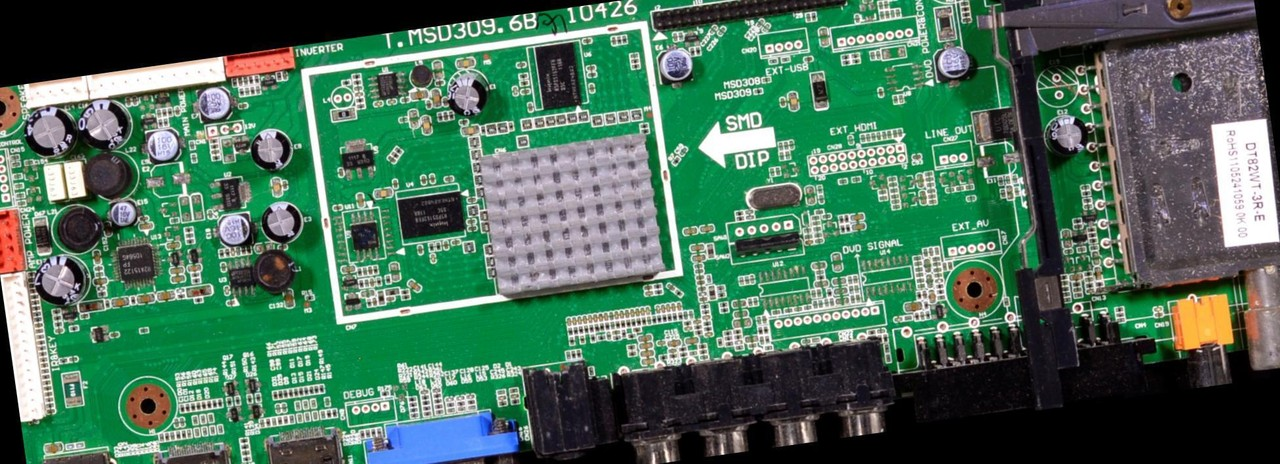Capacitor: (269, 176, 283, 198), (42, 442, 62, 455), (455, 57, 475, 69), (283, 290, 294, 311), (420, 115, 432, 134), (136, 293, 155, 305), (375, 187, 392, 199), (157, 289, 174, 301), (461, 125, 479, 136), (356, 193, 366, 210), (430, 89, 439, 107), (111, 298, 128, 307), (165, 241, 180, 251), (691, 252, 705, 262), (167, 267, 184, 275), (138, 222, 153, 231), (92, 248, 101, 263), (640, 357, 654, 366), (186, 264, 201, 272), (169, 275, 184, 283), (94, 277, 107, 286), (851, 213, 864, 222), (683, 339, 698, 346), (683, 227, 696, 235), (699, 226, 713, 233), (666, 347, 678, 355), (690, 245, 703, 252), (279, 402, 287, 413), (638, 343, 652, 349), (274, 403, 281, 415), (610, 311, 618, 321), (669, 340, 679, 348), (515, 62, 526, 69), (527, 102, 534, 113), (853, 223, 864, 230), (655, 341, 666, 348), (173, 417, 180, 428), (455, 395, 466, 402), (640, 351, 652, 357), (582, 37, 591, 45), (587, 64, 597, 71), (429, 173, 436, 183), (179, 417, 186, 427), (511, 86, 517, 97), (588, 71, 597, 78), (391, 180, 398, 189), (419, 389, 428, 396), (609, 37, 616, 46), (590, 83, 596, 93), (420, 175, 426, 185), (639, 336, 651, 341), (509, 393, 519, 399), (570, 317, 577, 325), (565, 317, 570, 328), (386, 100, 395, 106), (597, 313, 603, 322), (633, 308, 639, 317), (617, 310, 623, 319), (664, 304, 670, 313), (683, 326, 692, 332), (704, 332, 713, 338), (496, 395, 506, 400), (654, 306, 660, 314), (675, 303, 681, 311), (445, 396, 453, 402), (372, 102, 381, 107), (592, 314, 597, 323), (586, 315, 591, 324), (670, 304, 675, 313), (639, 308, 645, 315), (466, 394, 473, 400), (583, 316, 588, 324), (624, 310, 629, 318), (645, 307, 650, 315), (433, 388, 441, 393), (602, 313, 607, 320), (629, 309, 633, 317), (701, 316, 709, 320), (694, 320, 702, 324), (661, 305, 665, 312), (608, 313, 612, 320), (578, 317, 581, 324)
Connector: (0, 271, 53, 426), (650, 0, 850, 34), (87, 56, 226, 100), (226, 47, 298, 79), (23, 77, 85, 109), (0, 207, 26, 275)
IC: (395, 183, 466, 245), (527, 39, 588, 110), (340, 206, 386, 263), (113, 239, 162, 291), (754, 265, 810, 310), (860, 254, 915, 298), (212, 175, 252, 214), (228, 258, 260, 300), (339, 142, 375, 179), (368, 70, 405, 100)
Resistor: (233, 395, 241, 406), (496, 400, 507, 408), (351, 72, 362, 80), (625, 350, 637, 357), (517, 72, 527, 80), (518, 79, 528, 87), (449, 108, 454, 124), (436, 113, 444, 123), (58, 357, 68, 365), (311, 385, 319, 395), (630, 63, 641, 70), (839, 53, 850, 60), (841, 59, 852, 66), (733, 210, 744, 217), (598, 322, 605, 333), (625, 344, 636, 351), (510, 399, 521, 406), (184, 226, 193, 234), (716, 284, 725, 292), (701, 308, 710, 316), (720, 305, 729, 313), (296, 387, 304, 396), (210, 400, 218, 409), (318, 385, 326, 394), (180, 431, 188, 440), (620, 35, 628, 44), (639, 128, 649, 135), (191, 271, 201, 278), (191, 277, 201, 284), (52, 315, 62, 322), (52, 321, 62, 328), (205, 400, 212, 410), (380, 390, 390, 397), (323, 397, 330, 407), (407, 396, 417, 403), (276, 417, 283, 427), (408, 412, 418, 419), (593, 324, 599, 335), (241, 457, 252, 463), (302, 387, 310, 395), (280, 391, 288, 399), (330, 409, 338, 417), (162, 118, 169, 127), (356, 103, 365, 110), (850, 52, 859, 59), (210, 155, 219, 162), (582, 325, 589, 334), (254, 393, 261, 402), (194, 402, 201, 411), (420, 400, 429, 407), (241, 443, 250, 450), (241, 449, 250, 456), (340, 80, 350, 86), (185, 238, 195, 244), (104, 299, 110, 309), (51, 309, 61, 315), (356, 267, 362, 277), (193, 298, 203, 304), (68, 326, 78, 332), (603, 322, 609, 332), (178, 404, 184, 414), (200, 401, 206, 411), (575, 349, 581, 359), (433, 399, 443, 405), (239, 437, 249, 443), (253, 75, 259, 85), (98, 292, 106, 299), (372, 267, 379, 275), (400, 288, 408, 295), (717, 291, 725, 298), (700, 303, 708, 310), (763, 328, 770, 336), (698, 343, 706, 350), (275, 73, 282, 81), (733, 216, 744, 221), (157, 120, 163, 129), (630, 58, 639, 64), (356, 98, 365, 104), (566, 327, 572, 336), (682, 320, 691, 326), (227, 396, 233, 405), (184, 404, 190, 413), (723, 330, 732, 336), (678, 347, 687, 353), (421, 395, 430, 401), (265, 418, 271, 427), (231, 79, 237, 88), (719, 302, 729, 307), (190, 402, 195, 412), (730, 330, 740, 335), (353, 79, 361, 85), (209, 138, 217, 144), (639, 123, 647, 129), (434, 242, 440, 250), (129, 297, 135, 305), (177, 294, 185, 300), (843, 215, 849, 223), (306, 295, 314, 301), (839, 225, 845, 233), (216, 399, 222, 407), (292, 388, 298, 396), (659, 355, 667, 361), (408, 402, 416, 408), (410, 408, 418, 414), (167, 107, 172, 116), (209, 144, 218, 149), (375, 277, 380, 286), (366, 299, 371, 308), (572, 328, 577, 337), (247, 395, 252, 404), (432, 393, 441, 398), (176, 431, 181, 440), (371, 429, 376, 438), (248, 75, 253, 84), (239, 87, 244, 96), (249, 87, 254, 96), (615, 36, 620, 45), (384, 275, 390, 282), (640, 318, 646, 325), (660, 315, 666, 322), (676, 313, 682, 320), (613, 322, 619, 329), (666, 315, 672, 322), (428, 242, 433, 250), (579, 335, 584, 343), (569, 337, 574, 345), (628, 334, 636, 339), (694, 325, 702, 330), (277, 390, 281, 400), (288, 389, 293, 397), (765, 336, 770, 344), (679, 353, 687, 358), (327, 410, 332, 418), (360, 431, 365, 439), (358, 281, 364, 287), (844, 225, 850, 231), (630, 321, 636, 327), (594, 325, 598, 334), (273, 391, 277, 400), (609, 322, 614, 329), (671, 314, 676, 321), (704, 326, 711, 331), (162, 108, 166, 116), (851, 60, 859, 64), (578, 326, 582, 334), (622, 320, 626, 328), (633, 328, 641, 332), (309, 387, 313, 395), (759, 328, 763, 336), (669, 355, 677, 359), (165, 434, 169, 442), (635, 319, 640, 325), (588, 326, 593, 332), (700, 350, 706, 355), (839, 216, 843, 223), (402, 296, 409, 300), (652, 317, 656, 324), (657, 317, 661, 324), (704, 322, 711, 326), (571, 351, 575, 358), (626, 320, 630, 326), (696, 331, 701, 334)
Transistor/Diode: (343, 293, 361, 315), (340, 273, 357, 292)
